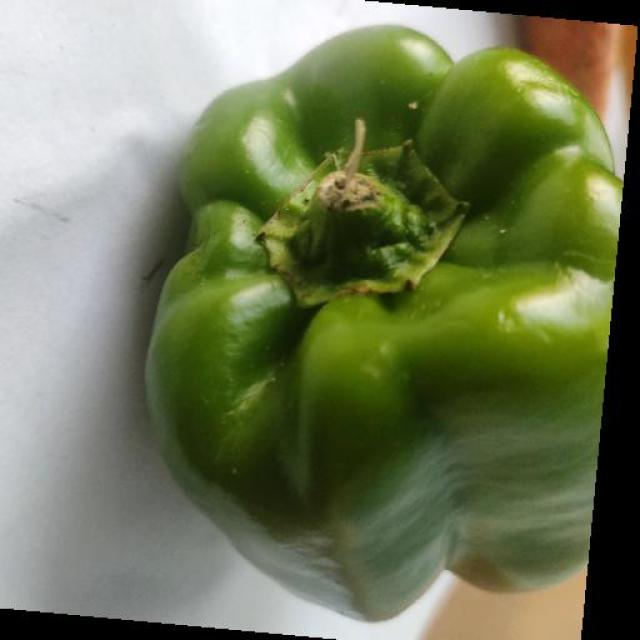Fresh_Capsicum: (217, 32, 616, 577)
